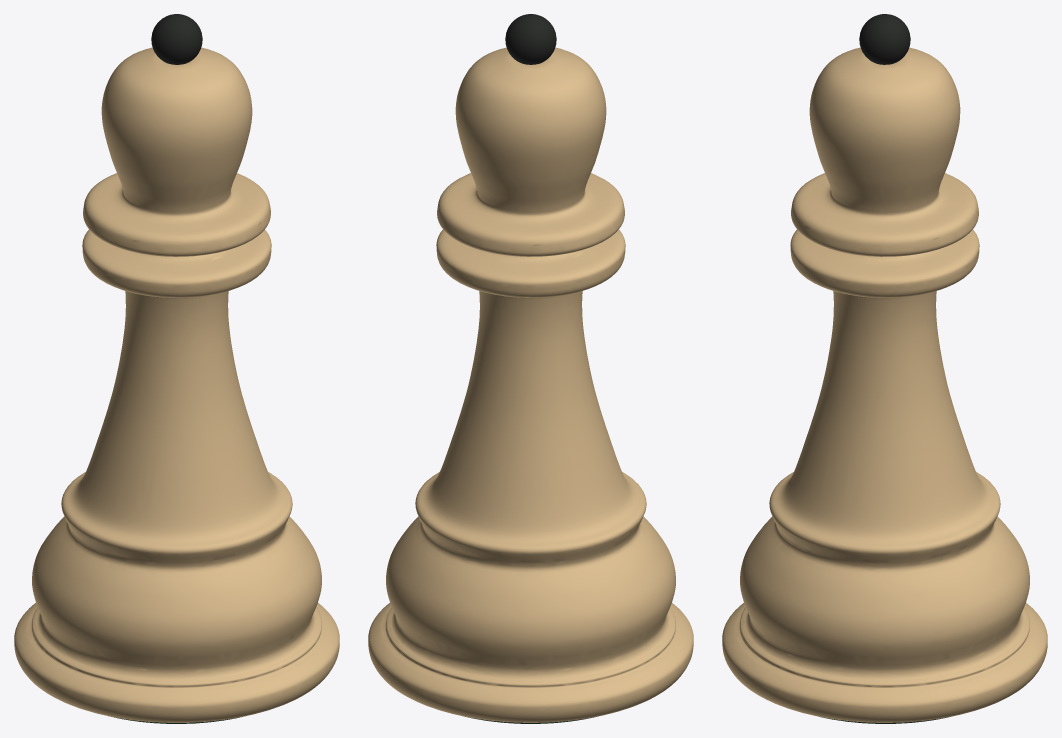
Rendered from bishop.glb.
3 views of the same model, side by side, from view 1: azimuth 30°, elevation 25°; view 2: azimuth 150°, elevation 25°; view 3: azimuth 270°, elevation 25° (orthographic).
Visible parts, largest first — view 1: Piece_Bishop; view 2: Piece_Bishop; view 3: Piece_Bishop.
Boxes of the visible parts, x1,y1,x2,y2 form: Piece_Bishop: (14, 14, 339, 723); Piece_Bishop: (368, 14, 693, 723); Piece_Bishop: (722, 14, 1047, 723).
Size of the model in its own units: 0.0356 by 0.0783 by 0.0356.
